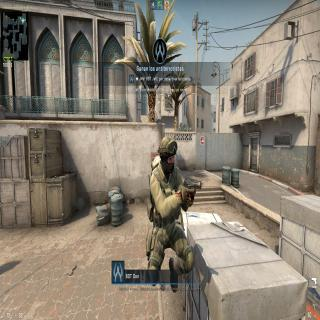CT-Head: (157, 135, 178, 179)
